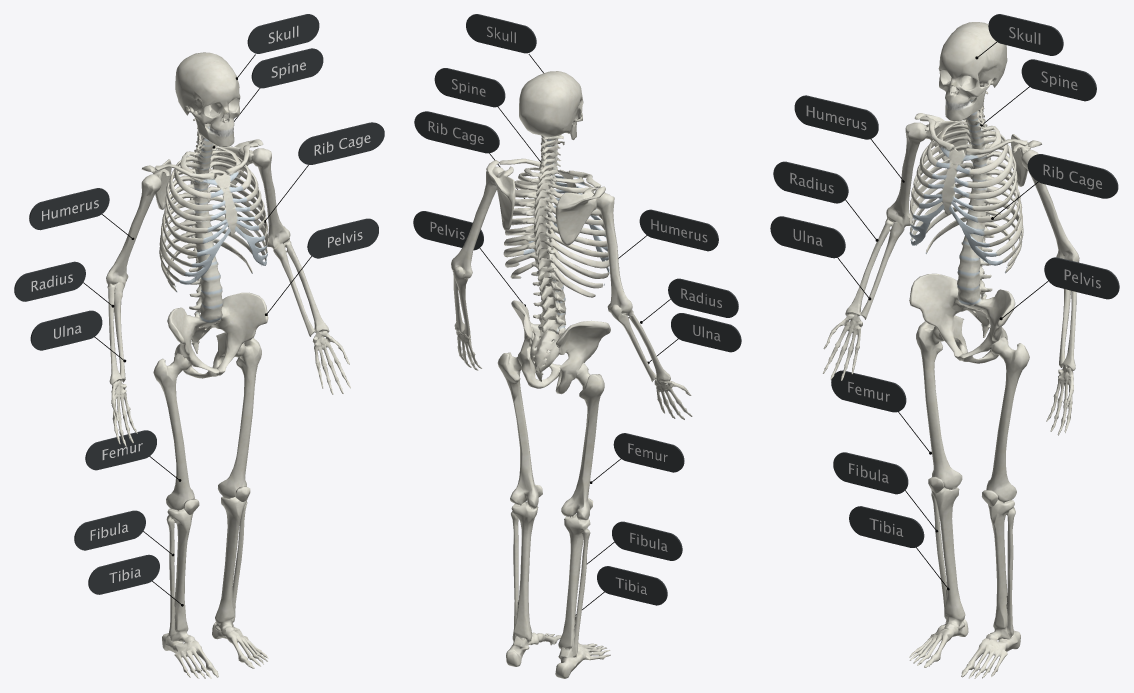
The model's file is skeletal_system.glb.
The picture shows the model from 3 angles, left to right: view 1: azimuth 30°, elevation 25°; view 2: azimuth 150°, elevation 25°; view 3: azimuth 330°, elevation 25°; orthographic projection. The views are drawn at different scales.
Visible parts, largest first — view 1: SkeletonV2_1, LabelGroup3_2; view 2: SkeletonV2_1, LabelGroup3_2; view 3: SkeletonV2_1, LabelGroup3_2.
Part boxes in pixels (box(x1,y1,x2,y2)): SkeletonV2_1: box(106, 52, 350, 678); LabelGroup3_2: box(14, 14, 384, 606); SkeletonV2_1: box(451, 71, 692, 678); LabelGroup3_2: box(413, 14, 741, 615); SkeletonV2_1: box(822, 22, 1079, 678); LabelGroup3_2: box(770, 14, 1119, 590).
Bounding box in the file's own units: 1.09 × 1.87 × 0.2566.
4 materials, 1 textured.
